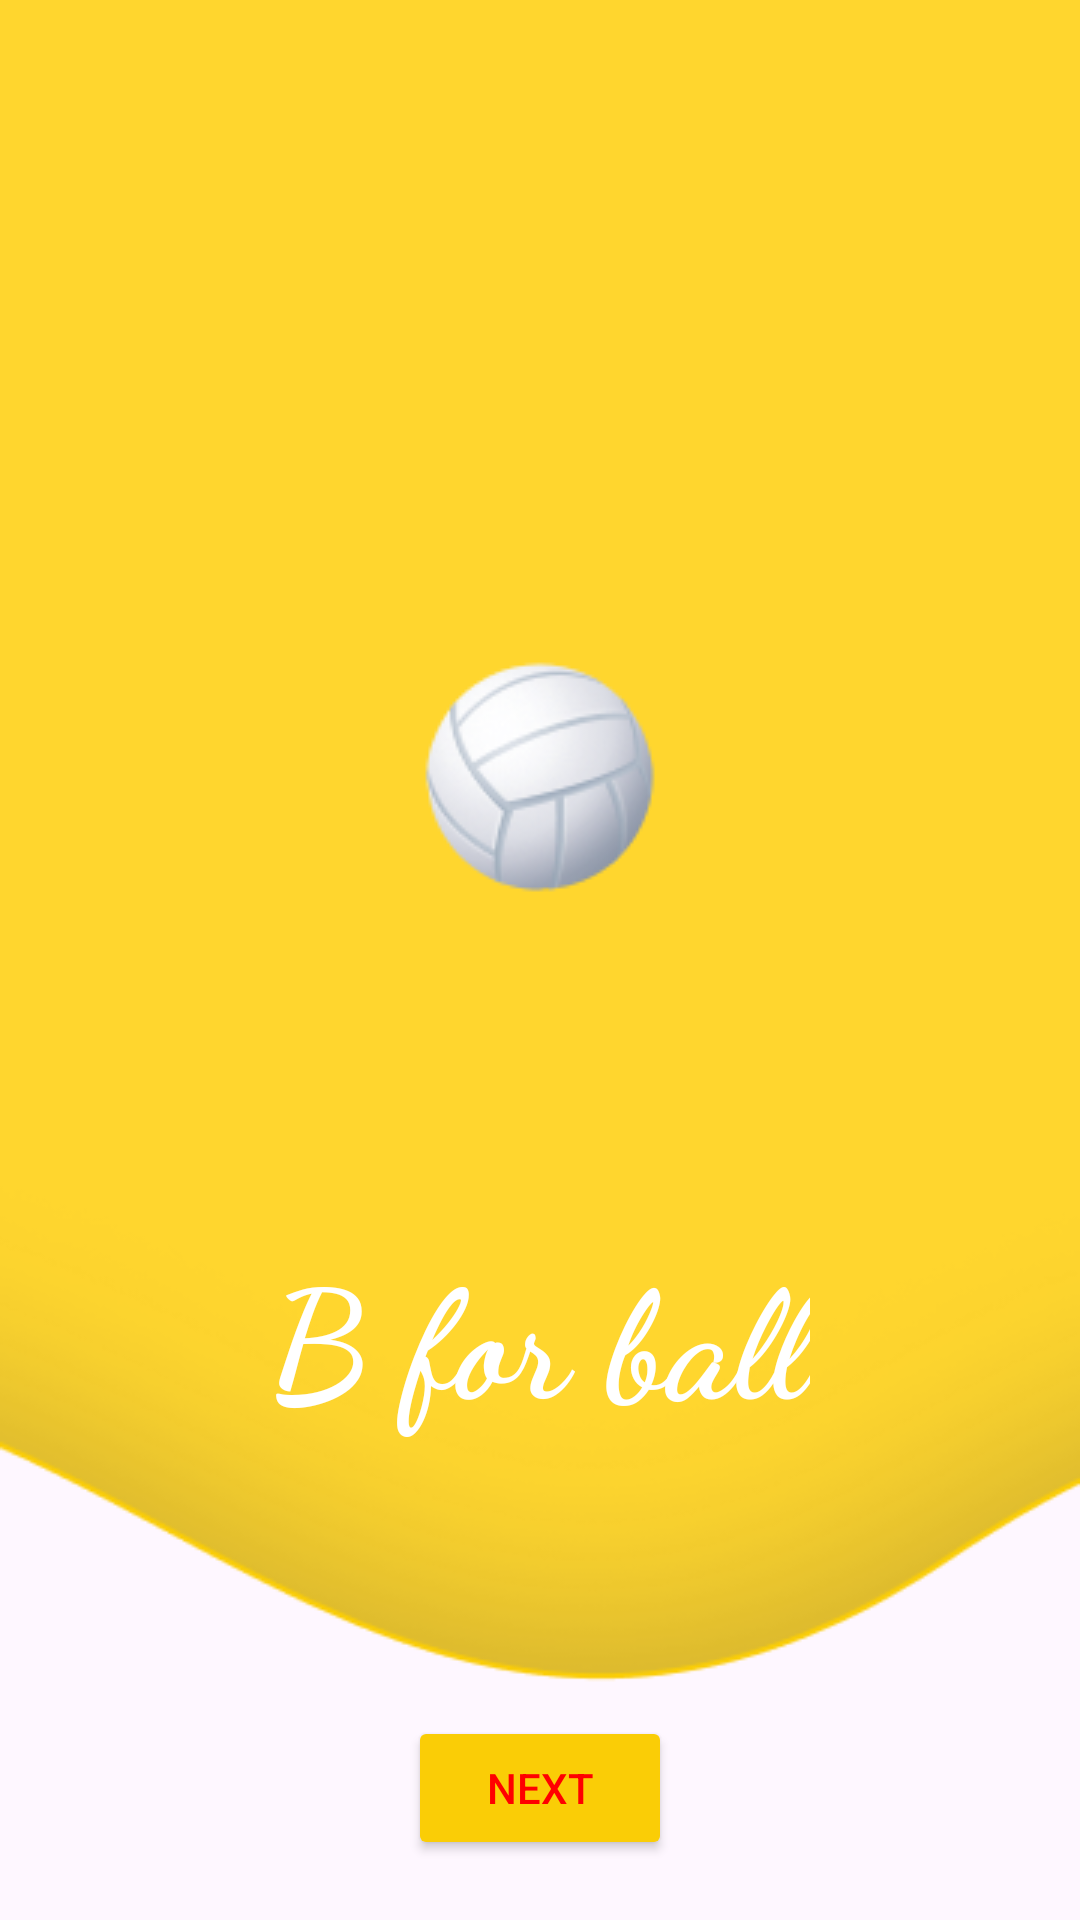

Named icons in this screenshot (1080*1920) and their centers, (x,y):
ball: (540,777)
